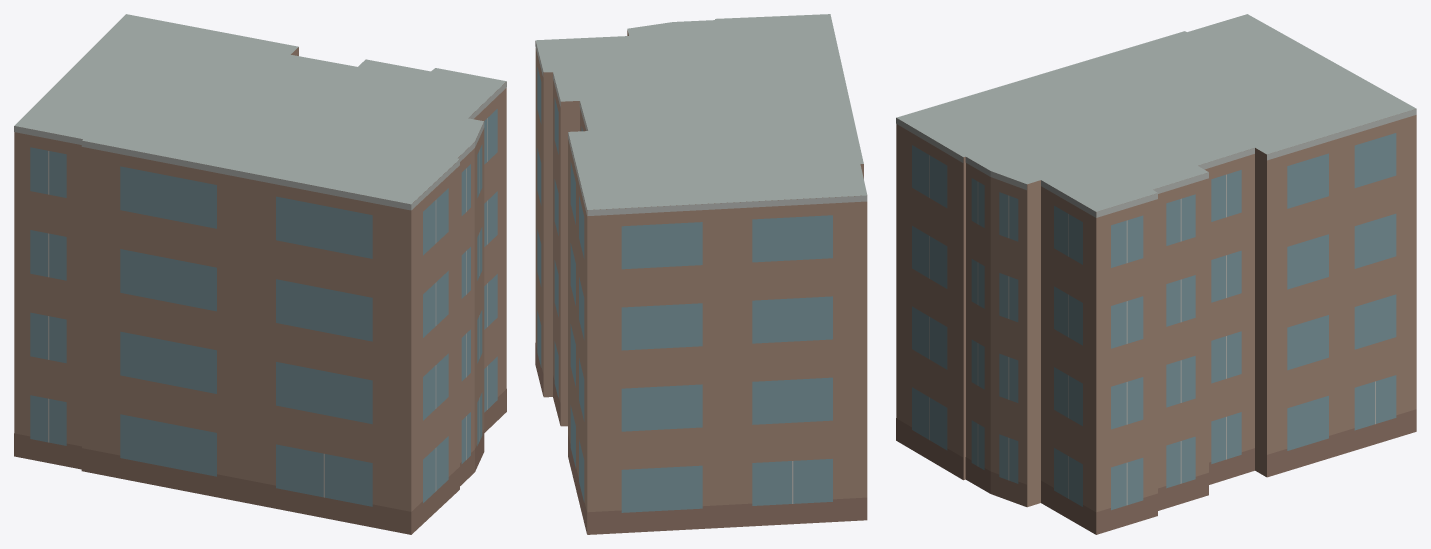
Rendered from survey-upis-32661522.glb.
The picture shows the model from 3 angles, left to right: view 1: azimuth 30°, elevation 25°; view 2: azimuth 150°, elevation 25°; view 3: azimuth 270°, elevation 25°; orthographic projection. The views are drawn at different scales.
Visible parts, largest first — view 1: survey-upis-32661522.tmp; view 2: survey-upis-32661522.tmp; view 3: survey-upis-32661522.tmp.
Part boxes in pixels (left/top/right/bottom): survey-upis-32661522.tmp: left=14, top=14, right=506, bottom=534; survey-upis-32661522.tmp: left=535, top=14, right=867, bottom=534; survey-upis-32661522.tmp: left=896, top=14, right=1416, bottom=534.
Bounding box in the file's own units: 17.16 × 13.05 × 19.07.
